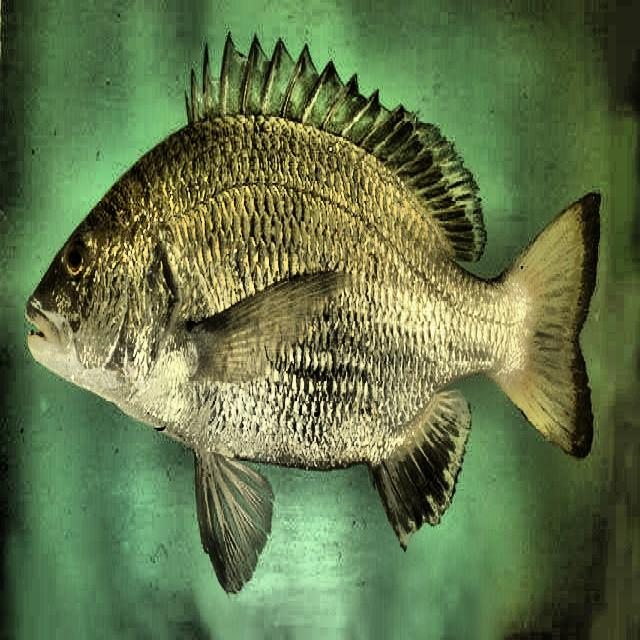fish: (27, 32, 594, 596)
